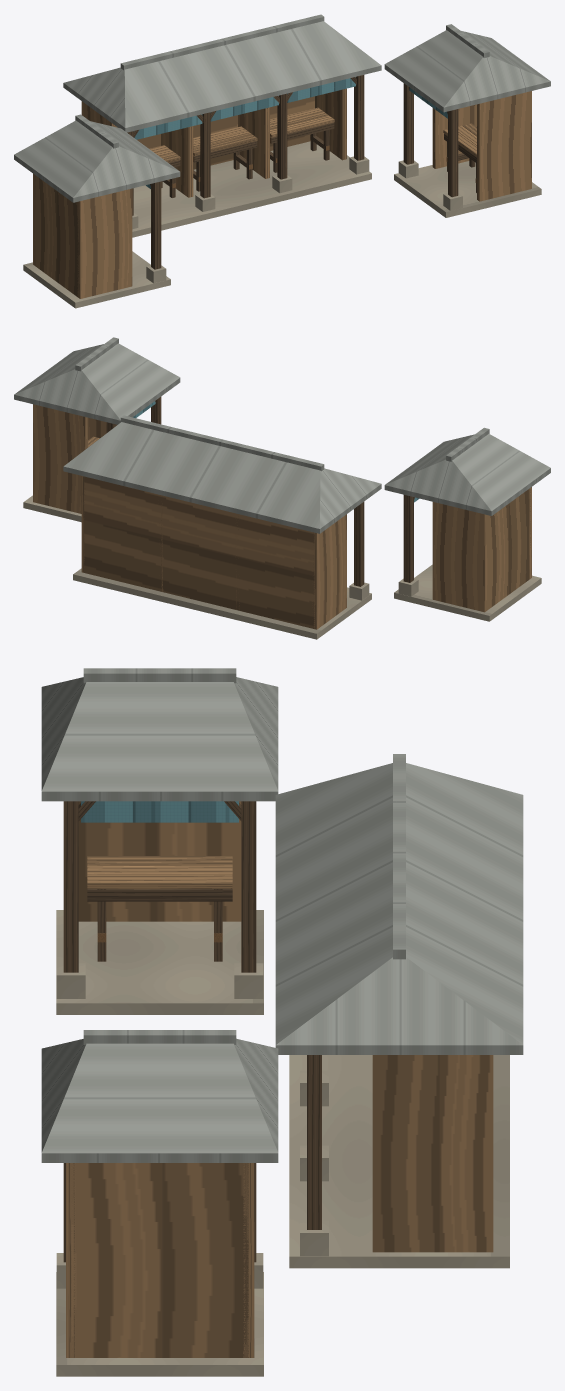
Rendered from basseterre.glb.
3 renders of one model, top to bottom at view 1: azimuth 30°, elevation 25°; view 2: azimuth 150°, elevation 25°; view 3: azimuth 270°, elevation 25°, orthographic. The views are drawn at different scales.
Visible parts, largest first — view 1: basseterre; view 2: basseterre; view 3: basseterre.
Part boxes in pixels (left/top/right/bottom): basseterre: left=14, top=14, right=550, bottom=308; basseterre: left=14, top=337, right=550, bottom=639; basseterre: left=41, top=668, right=523, bottom=1376.
Size of the model in its own units: 7.4 by 2.2 by 3.23.
Materials: 1 (1 with a texture image).
